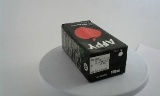appy: (56, 19, 120, 83)
